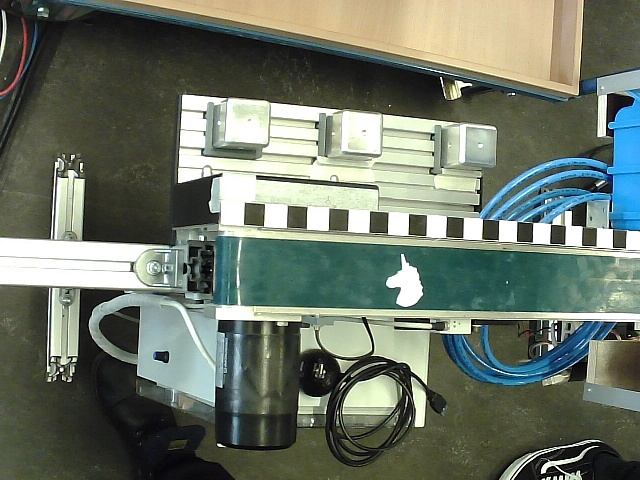unicorn: (385, 253, 424, 308)
